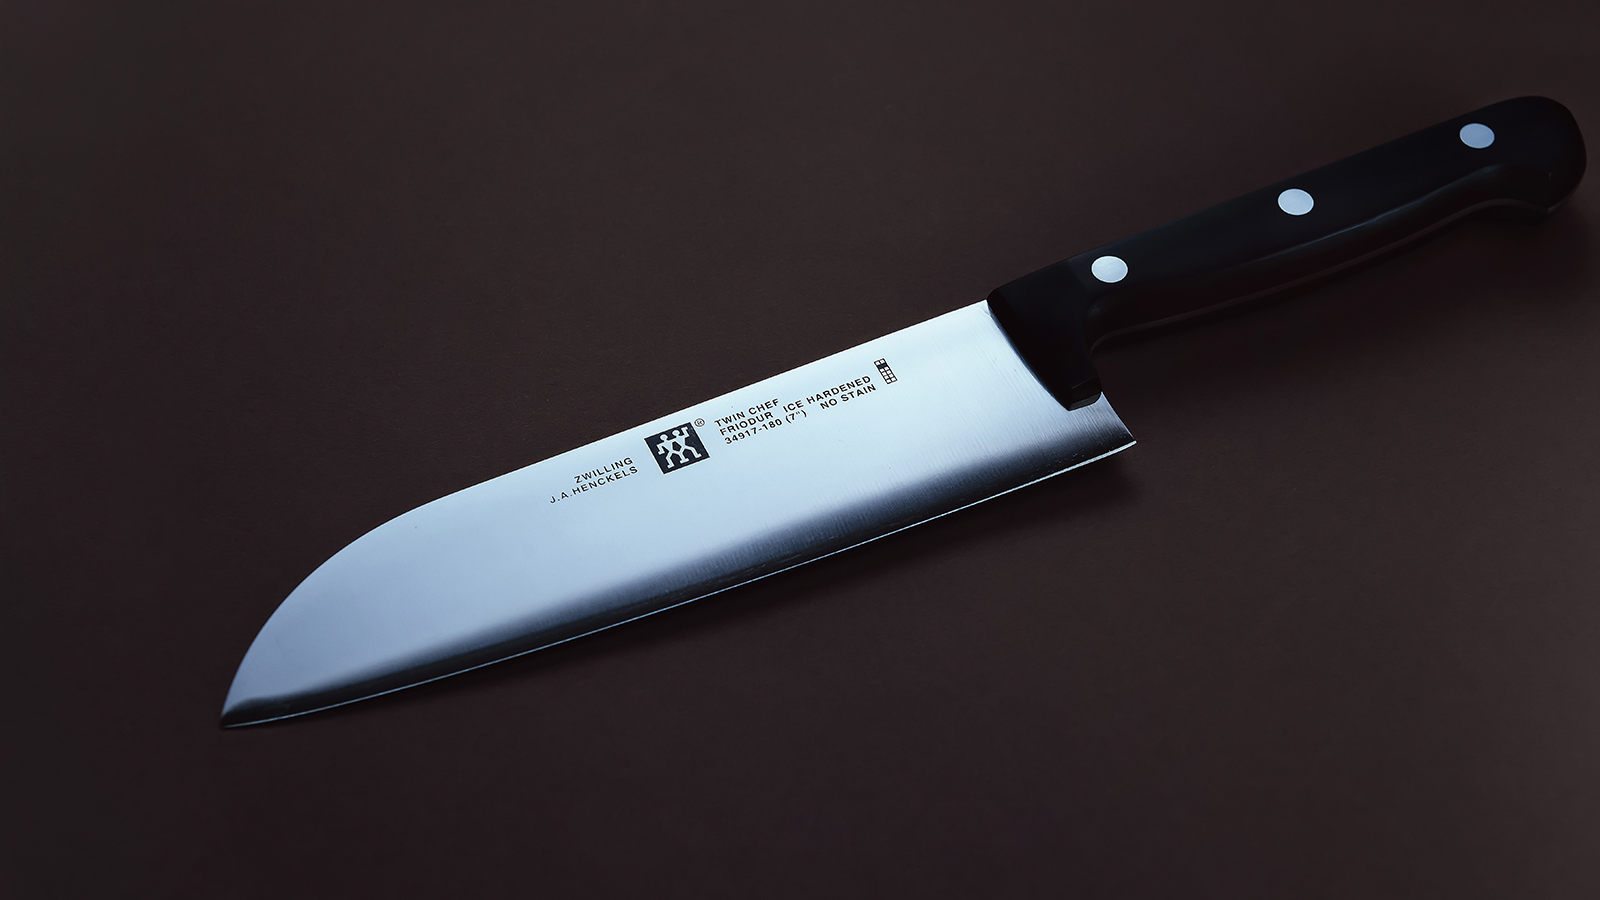knife: (204, 84, 1593, 742)
